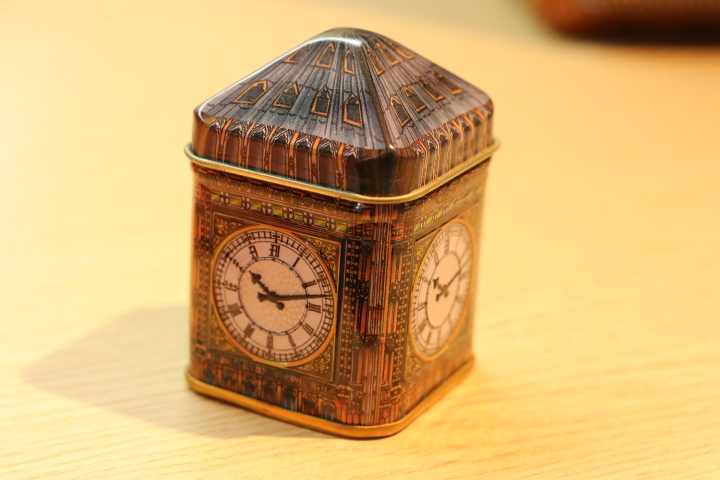Big Ben: (169, 11, 521, 453)
